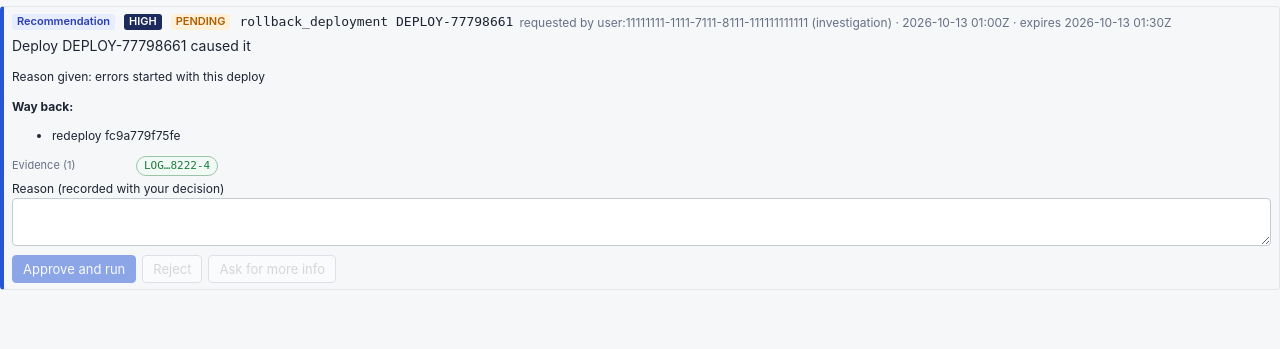
ApprovalCard › needs a reason, then sends exactly the decision and the reason
expect the button "Reject" is disabled: met, box [142, 255, 202, 283]
In the text box labelled "Reason (recorded with your decision)": (642, 222) [12, 198, 1271, 246], type "  not this deploy  "
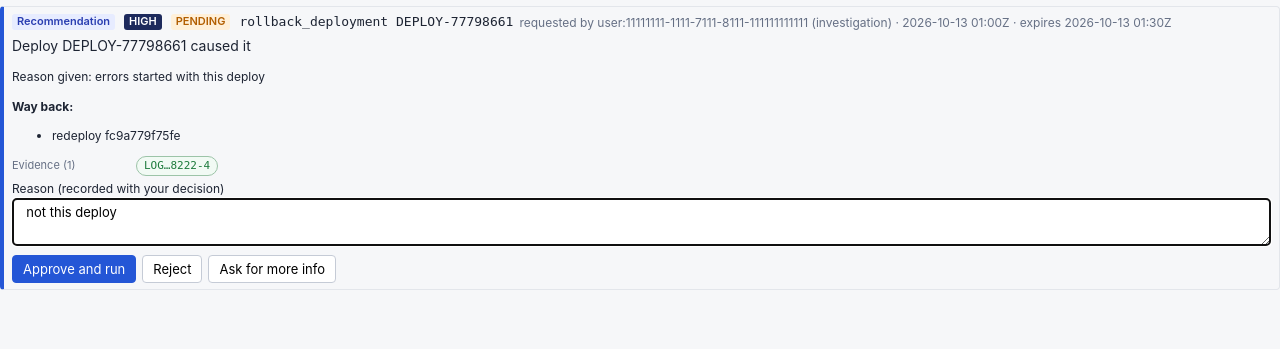
expect the button "Reject" is enabled: met
Click the button "Reject": (172, 269) [142, 255, 202, 283]
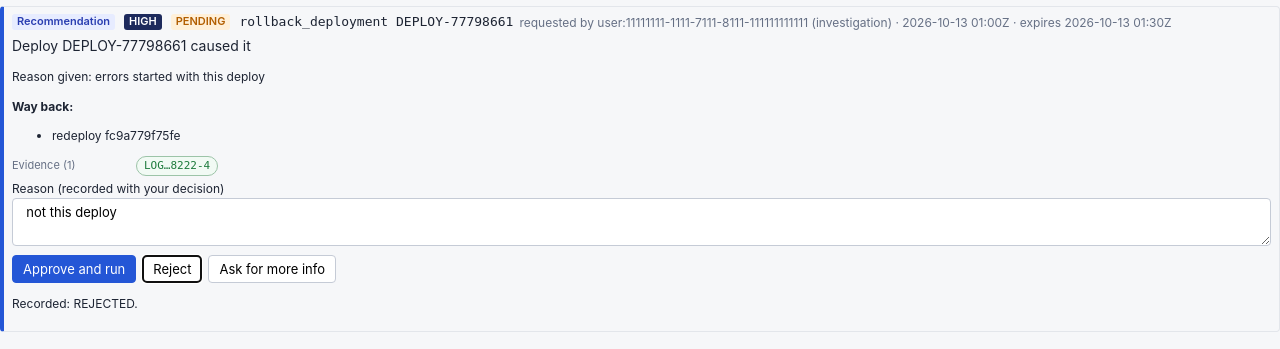
expect the message shows "Recorded: REJECTED": met, box [12, 296, 138, 312]
